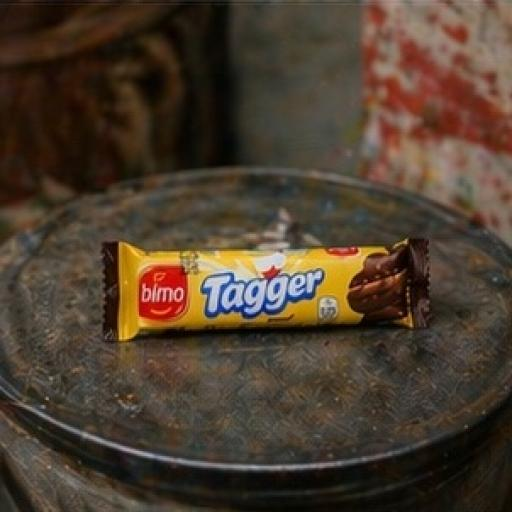tagger: (81, 202, 449, 385)
